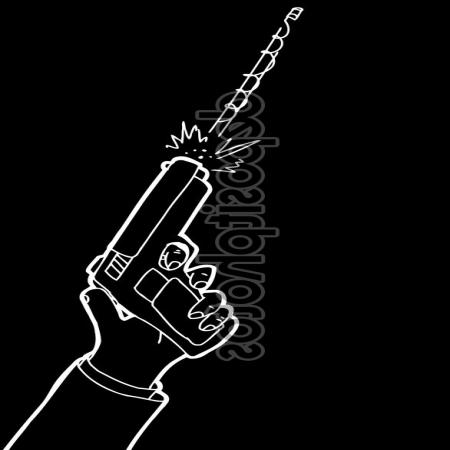Pistol: (81, 154, 252, 360)
